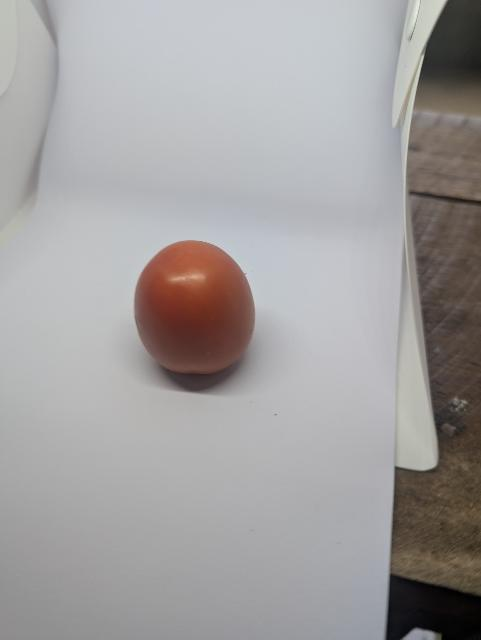red: (119, 235, 287, 401)
